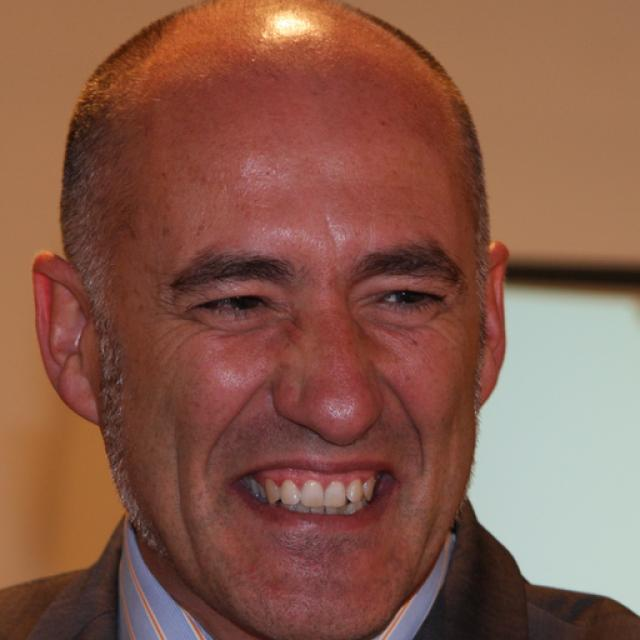Pigmentation: (264, 303, 385, 424)
